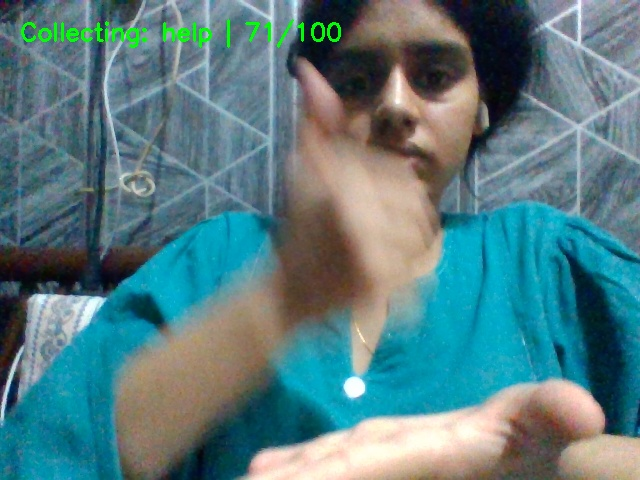help: (232, 46, 633, 480)
